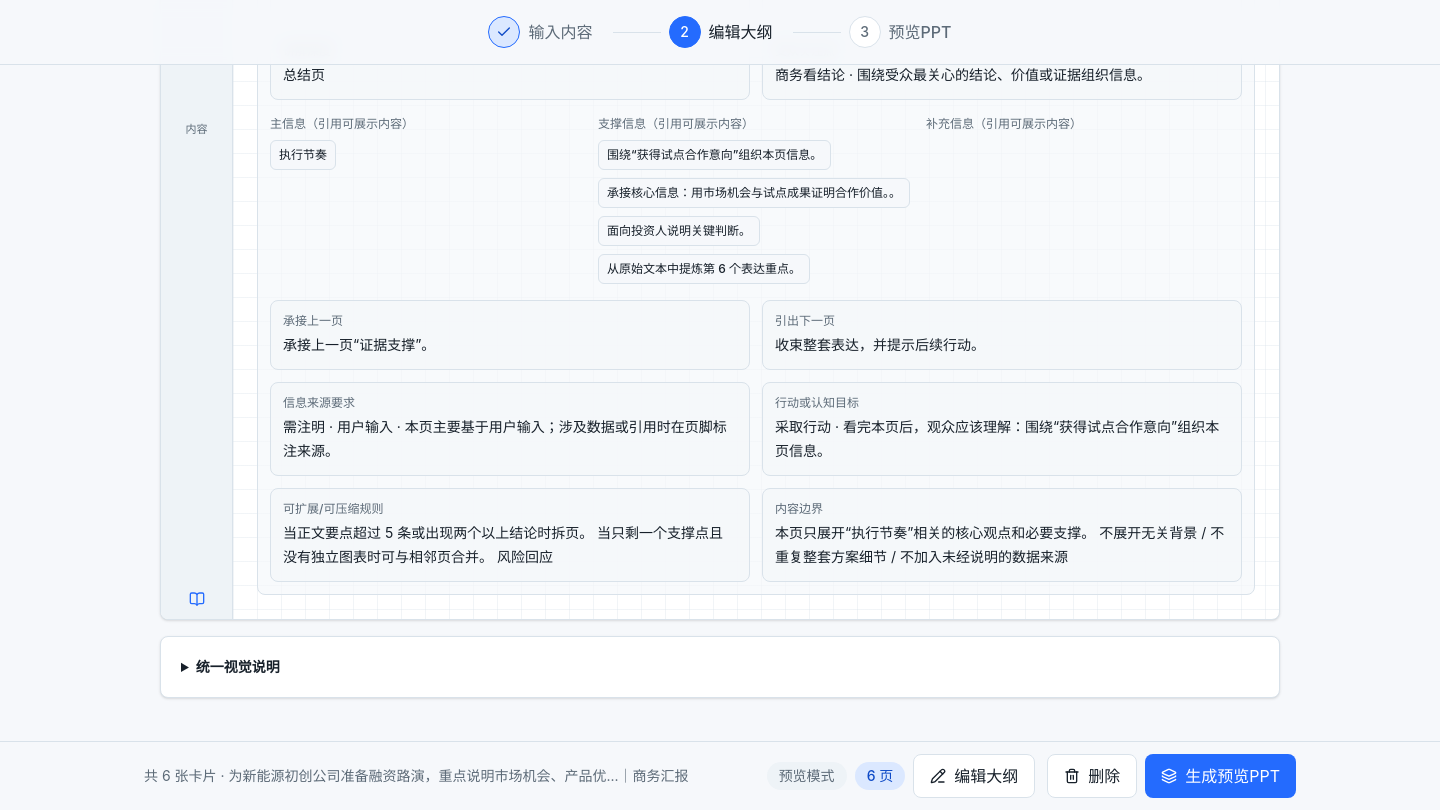
Scenario: workbench stepped flow › renders outline drafts read-only before editing
(page scrolled)
Expected: the button "编辑大纲" is shown, [913,754,1035,798]
Expected: the footer "编辑大纲" shows "预览模式", [779,767,835,784]
Step 1. Click the heading "统一视觉说明" → (238, 666), box [196,658,280,675]
(page scrolled)
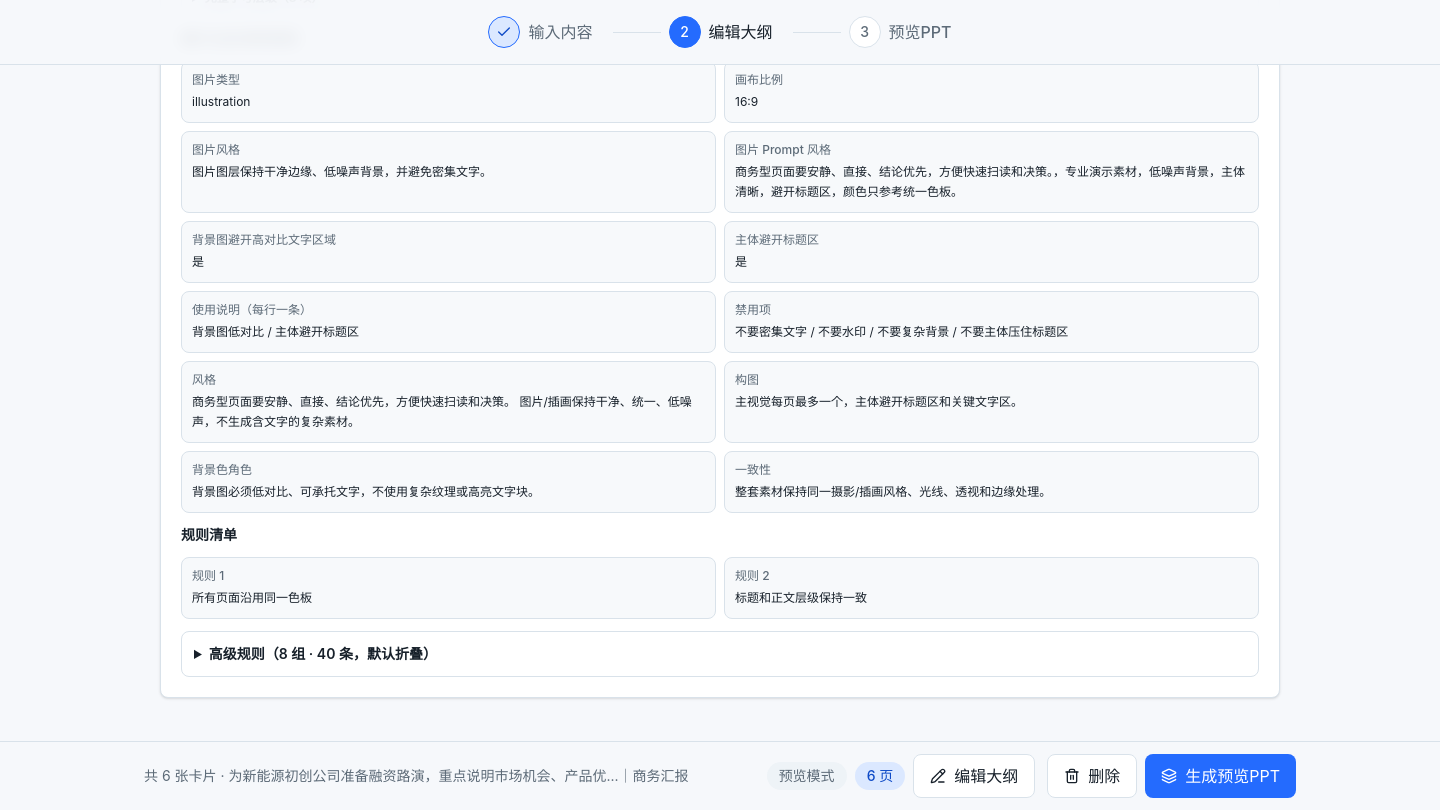
Expected: the text "商务型页面要安静、直接、结论优先，方便快速扫读和决策。 图片/插画保持干净、统一、低噪声，不生成含文字的复杂素材。" is shown, [192,392,705,432]
Expected: the text "图片类型" is shown, [192,72,240,87]
Expected: the text "画布比例" is shown, [735,72,783,87]
Step 2. Click the heading "高级规则（8 组 · 40 条，默认折叠）" → (323, 654), box [209,645,437,662]
(page scrolled)
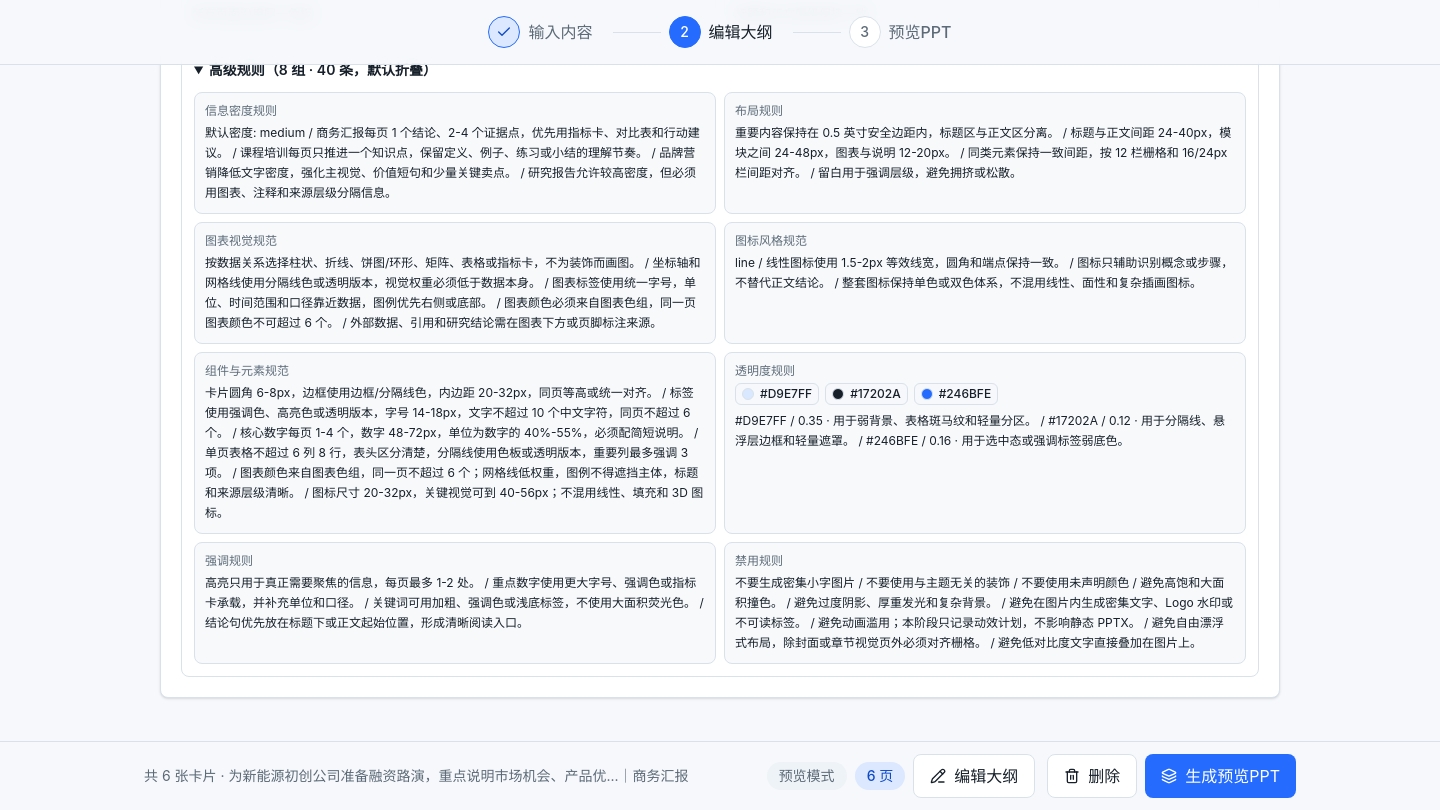
Expected: the text "图表视觉规范" is shown, [205,233,277,248]
Expected: the text "布局规则" is shown, [735,103,783,118]
Expected: the text "信息密度规则" is shown, [205,103,277,118]
